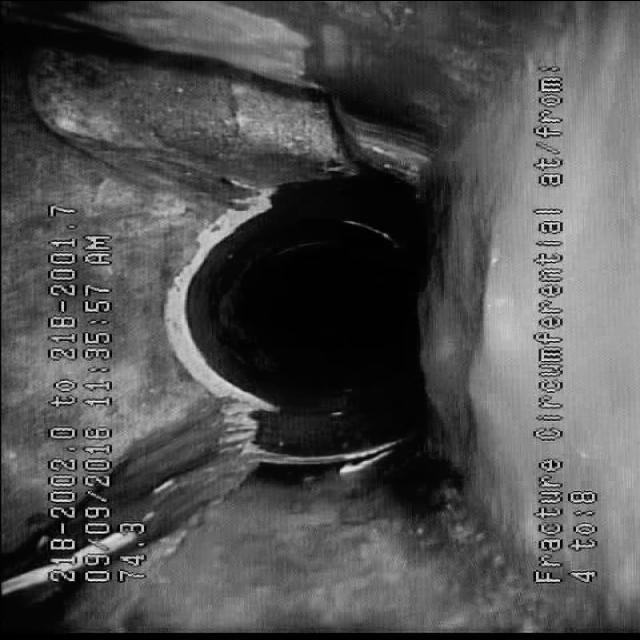Fracture: (31, 22, 422, 132), (130, 428, 387, 588)
